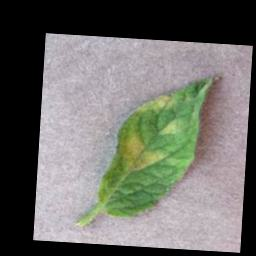Leaf_Mold: (116, 131, 167, 176), (132, 88, 180, 115)
